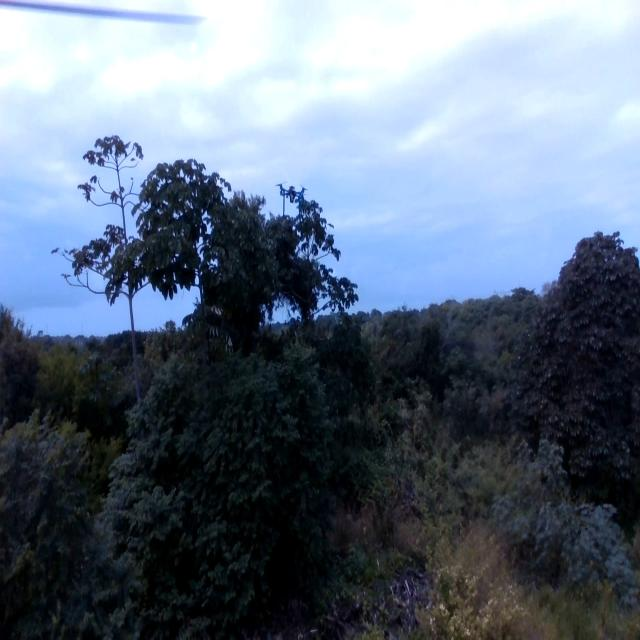-uav-: (268, 172, 311, 226)
